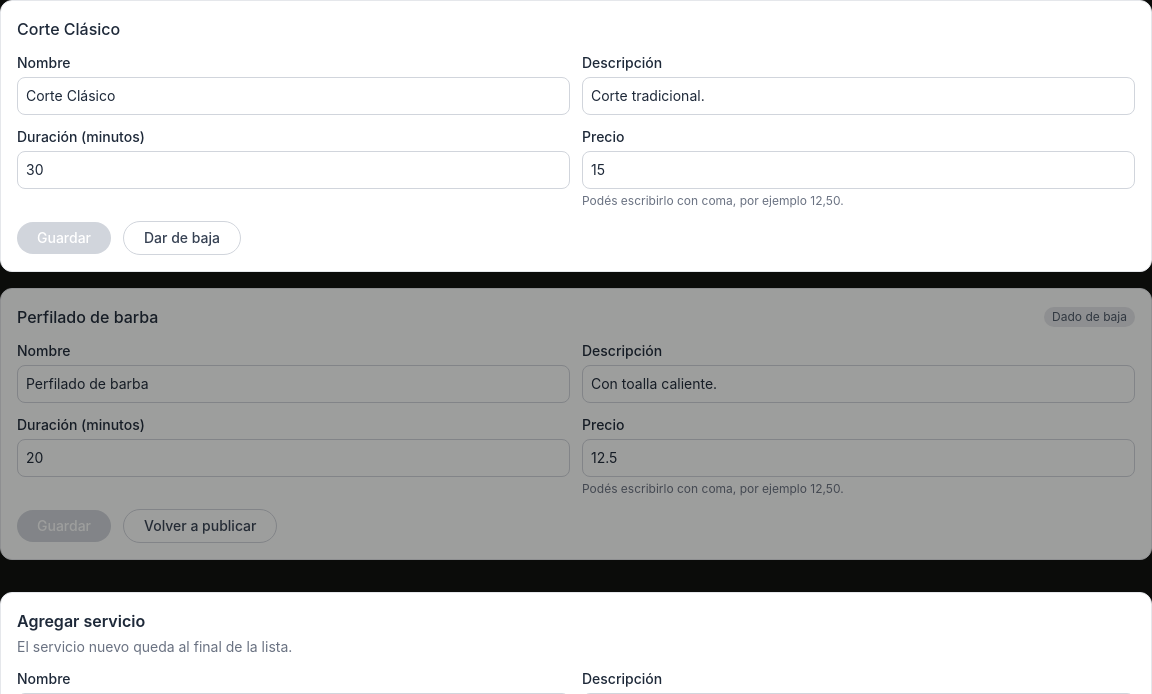
Test: SeccionServiciosComponent › dar de baja y volver a publicar › dar de baja manda activo en false y lo muestra como dado de baja
The image size is (1152, 694).
Click the button "Dar de baja" at {"x": 182, "y": 238}, box x1=123 y1=221 x2=241 y2=255
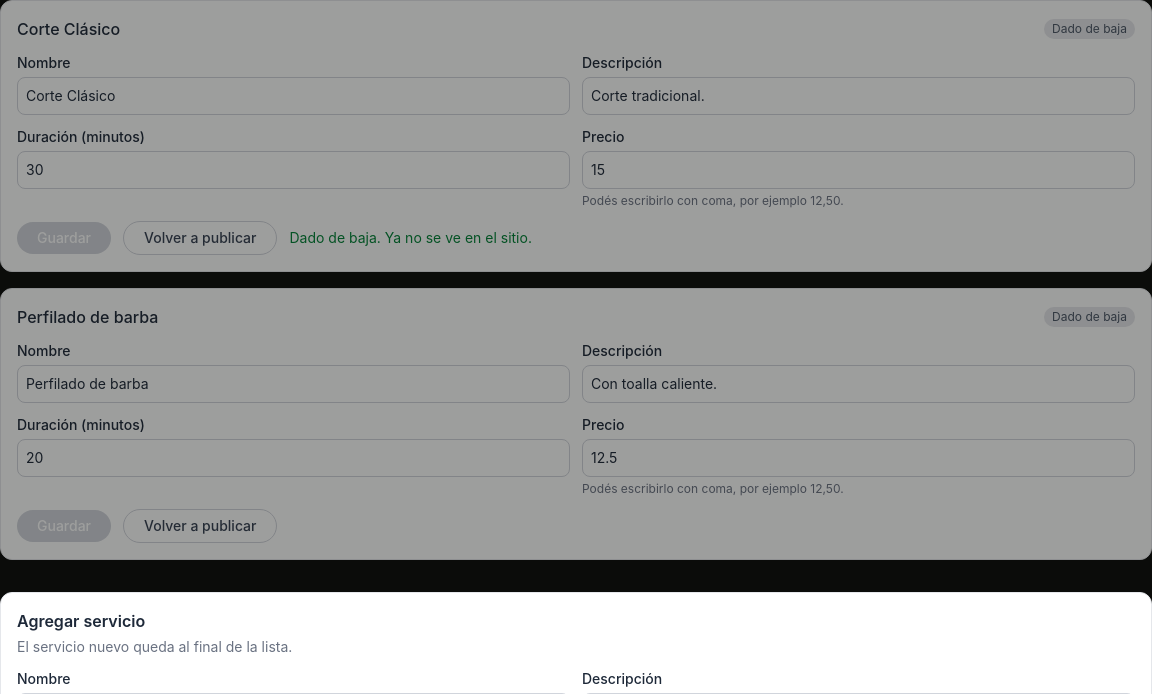
Expected: the button "Volver a publicar" next to "Dado de baja. Ya no se ve en el sitio." is shown, x1=123 y1=221 x2=278 y2=255
Expected: the list item that starts with "Corte Clásico" shows "Dado de baja", x1=1052 y1=21 x2=1127 y2=36
